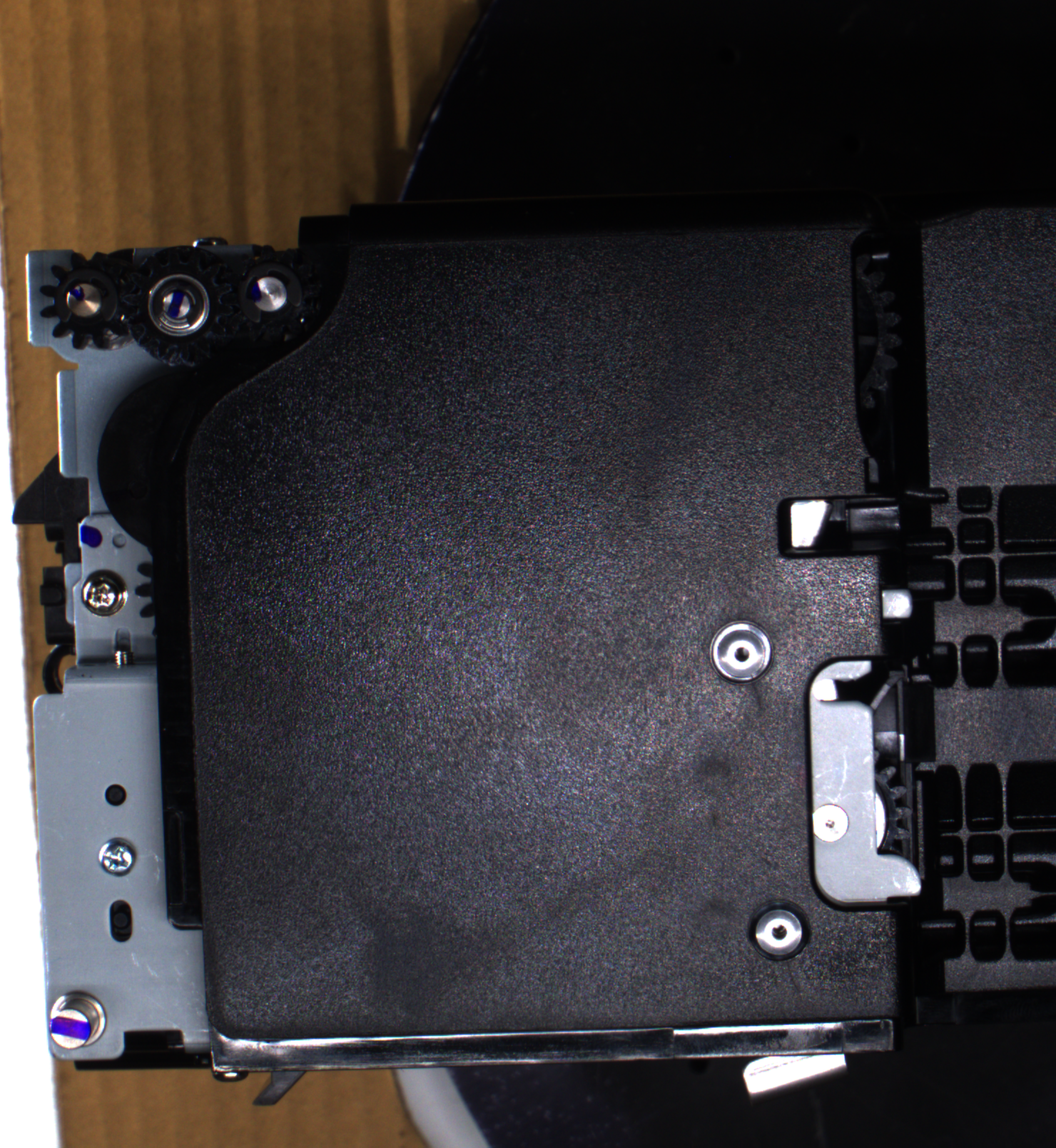centre_pin_presence: (736, 1037, 853, 1101)
centre_plate_presence: (801, 651, 930, 916)
centre_screw_presence: (706, 614, 778, 691), (742, 892, 813, 965)
gear1_presence: (37, 249, 139, 354)
gear2_presence: (121, 244, 234, 366)
gear3_presence: (215, 244, 315, 346)
side_screw_presence: (76, 566, 130, 617), (94, 835, 139, 878)
slanting_pin_presence: (43, 985, 114, 1057)
